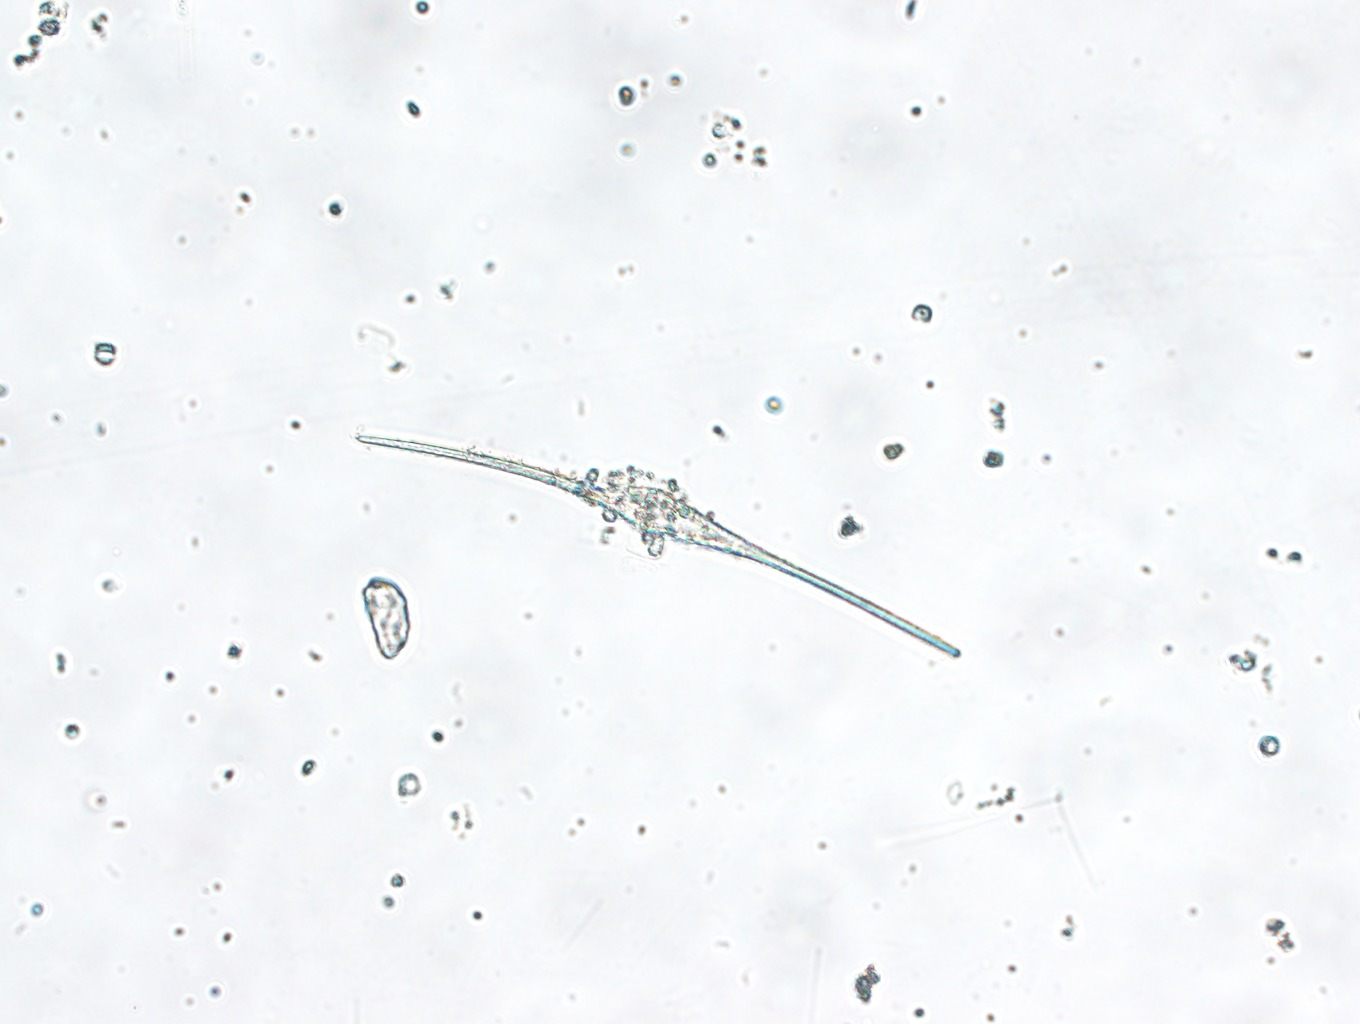ceratium fusus: (345, 424, 963, 664)
